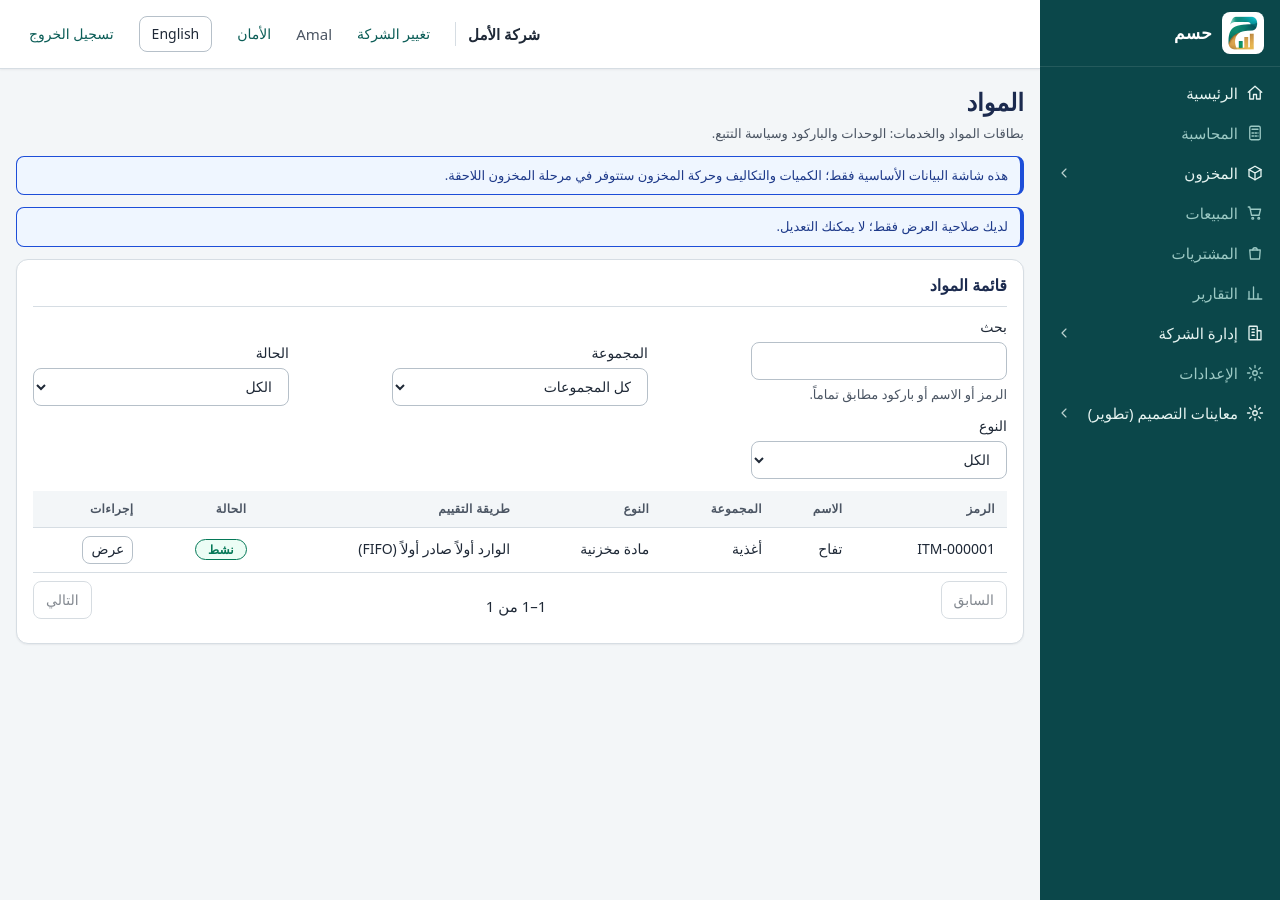
Test: items list › shows read-only users the list without any create, edit-save or status controls
Expected: the element with test id "company-name" is shown, [455,22,540,46]
Expected: the row with test id "item-ITM-000001" is shown, [33,528,1007,572]
Click the button "عرض" at (108,550), box [82,536,134,564]
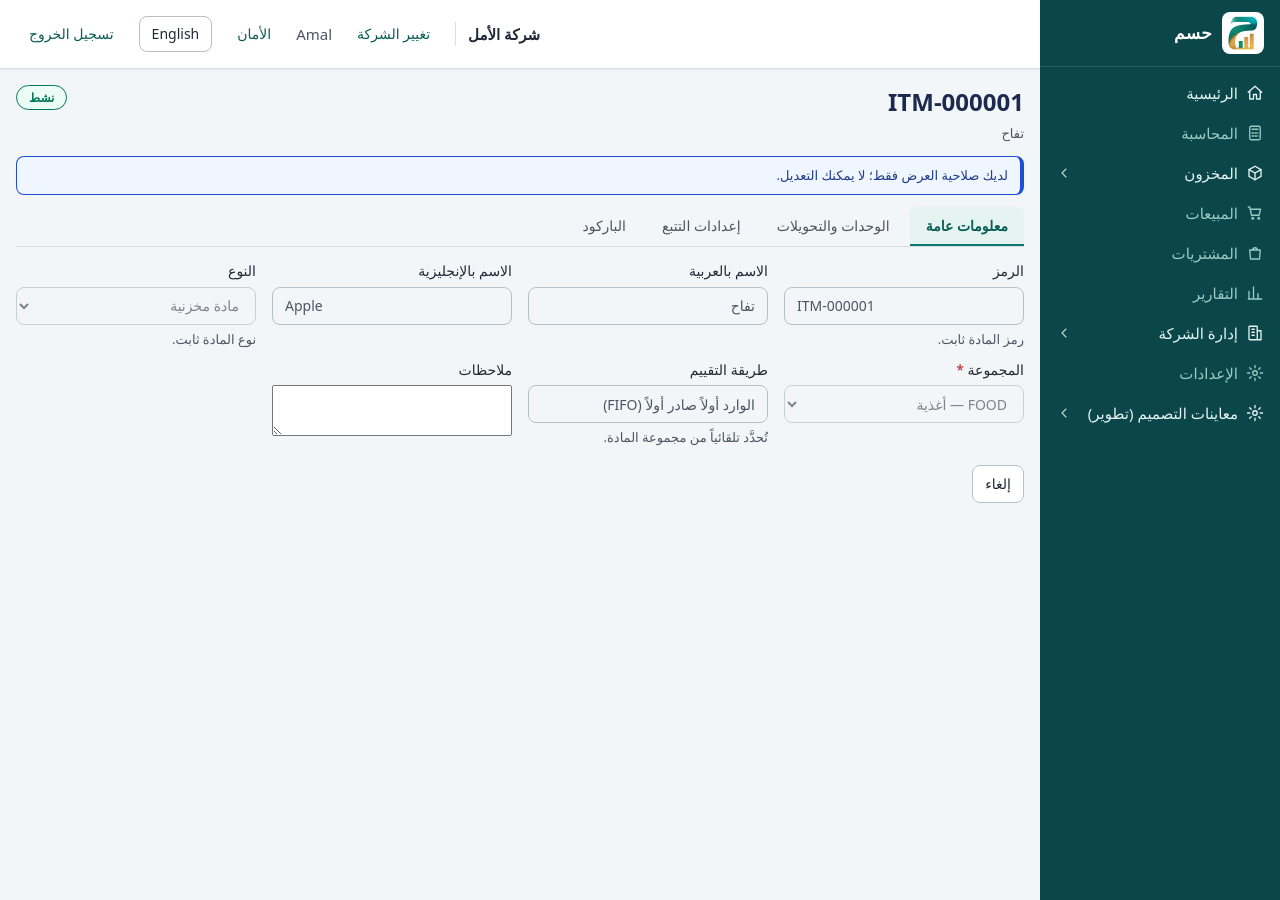
Now the element with test id "item-editor" is shown, box [16,85,1024,502]
Now the button "إلغاء" is shown, box [972,464,1024,502]
